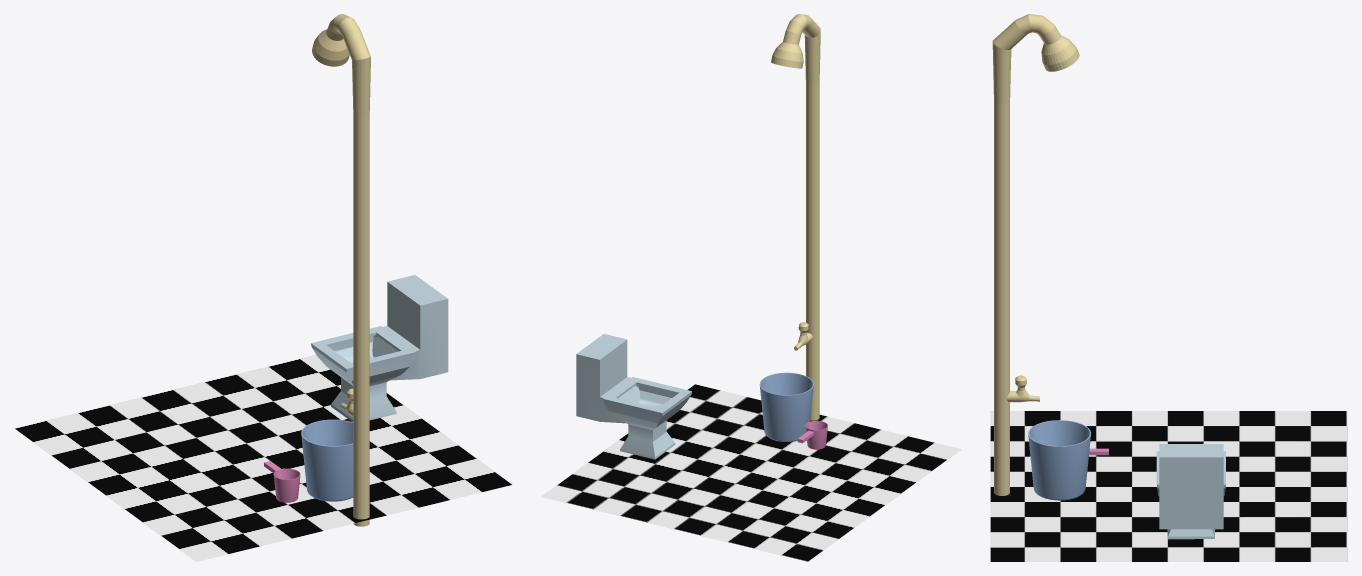
File: TOILET.fbx
3 renders of one model, left to right at view 1: azimuth 30°, elevation 25°; view 2: azimuth 150°, elevation 25°; view 3: azimuth 270°, elevation 25°, orthographic. The views are drawn at different scales.
Visible parts, largest first — view 1: Plane, shower, Cube.001, tub, cup; view 2: Plane, Cube.001, shower, tub, cup; view 3: Plane, shower, Cube.001, tub.
Boxes of the visible parts, x1,y1,x2,y2 form: Plane: (14,355,512,561); shower: (312,14,370,526); Cube.001: (311,275,448,422); tub: (301,419,353,501); cup: (264,461,300,502); Plane: (541,384,961,561); Cube.001: (576,334,691,459); shower: (771,14,820,420); tub: (759,372,813,441); cup: (797,420,827,449); Plane: (990,411,1347,561); shower: (992,14,1079,495); Cube.001: (1156,444,1225,539); tub: (1028,420,1090,500).
Size of the model in its own units: 214 by 300 by 200.
Materials: 5 (1 with a texture image).
